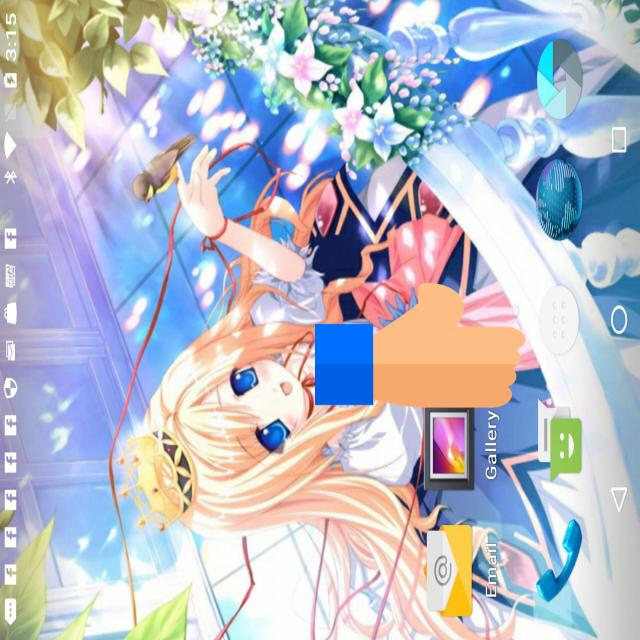privacy zuckering: (315, 280, 525, 410)
